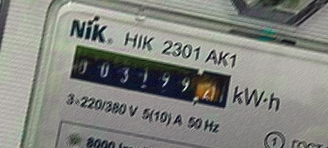0: (77, 55, 92, 75), (100, 58, 113, 78)
1: (142, 63, 152, 83)
3: (120, 64, 131, 84)
6: (202, 86, 213, 103)
9: (161, 69, 172, 88), (181, 75, 192, 94)
screen: (64, 39, 242, 116)
